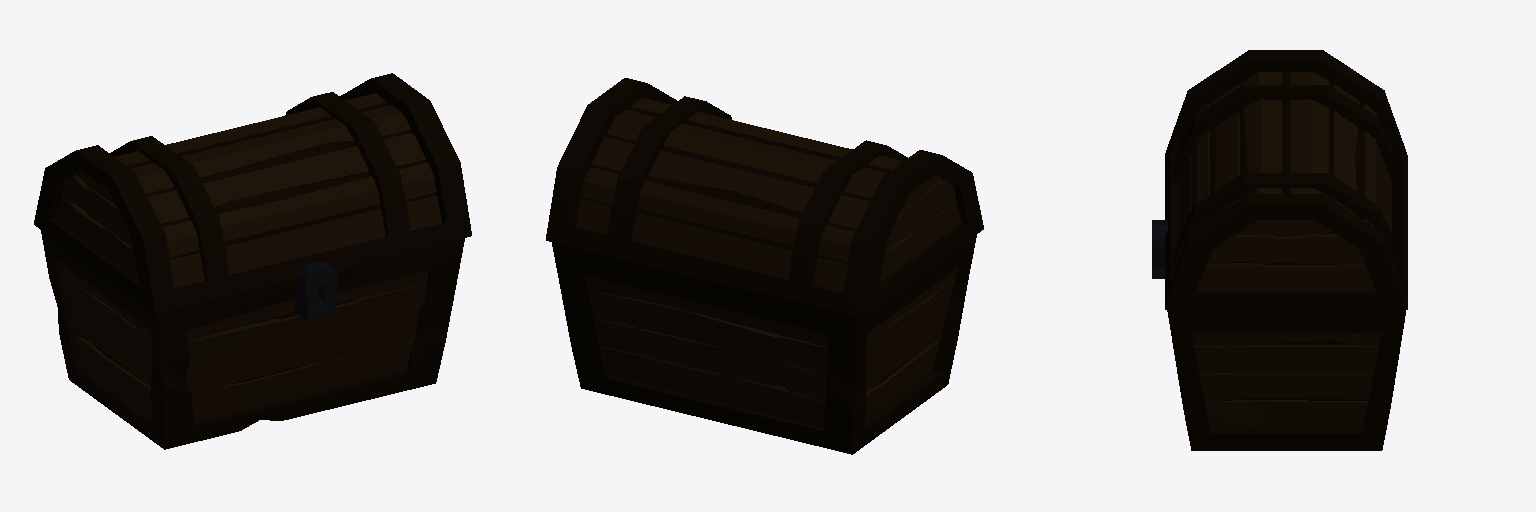
The model's file is Chest_Gold.obj.
3 renders of one model, left to right at view 1: azimuth 30°, elevation 25°; view 2: azimuth 150°, elevation 25°; view 3: azimuth 270°, elevation 25°, orthographic.
Parts seen in each view (by area): view 1: Chest_Gold_Top_Cylinder.041, Chest_Gold_Base_Cube.010; view 2: Chest_Gold_Top_Cylinder.041, Chest_Gold_Base_Cube.010; view 3: Chest_Gold_Top_Cylinder.041, Chest_Gold_Base_Cube.010.
Boxes of the visible parts, x1,y1,x2,y2 form: Chest_Gold_Top_Cylinder.041: [34, 73, 471, 312]; Chest_Gold_Base_Cube.010: [41, 230, 464, 449]; Chest_Gold_Top_Cylinder.041: [546, 78, 983, 317]; Chest_Gold_Base_Cube.010: [552, 235, 976, 454]; Chest_Gold_Top_Cylinder.041: [1165, 50, 1407, 309]; Chest_Gold_Base_Cube.010: [1152, 220, 1405, 450].
Size of the model in its own units: 1.18 by 0.9107 by 0.8223.